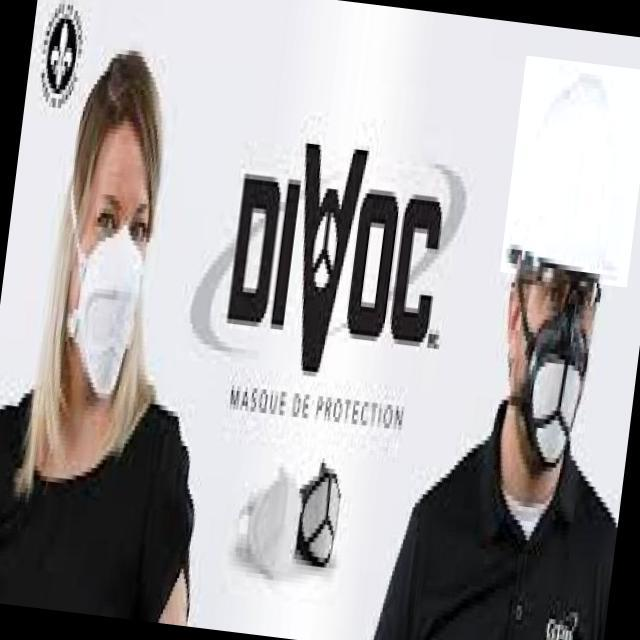Helmet: (499, 55, 640, 287)
Person: (355, 24, 640, 640), (3, 34, 207, 640)
no-helmet: (77, 42, 164, 148)
no-vest: (370, 393, 637, 640), (0, 362, 199, 640)
